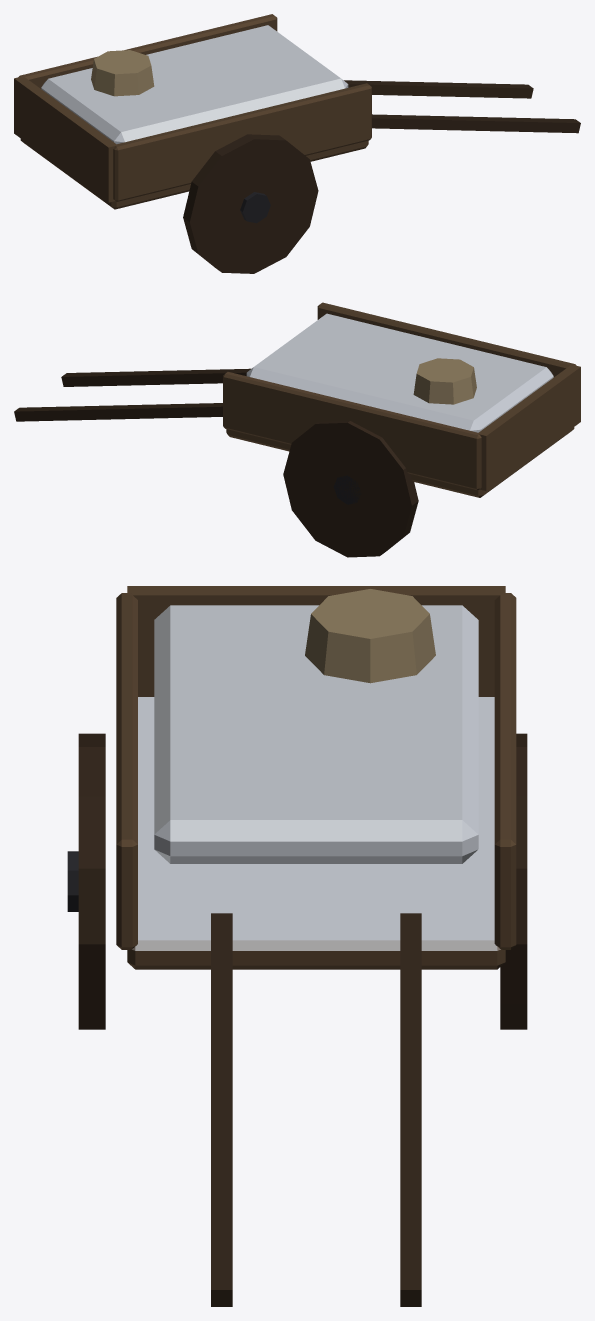
The model's file is village_cart.glb.
3 renders of one model, top to bottom at view 1: azimuth 30°, elevation 25°; view 2: azimuth 150°, elevation 25°; view 3: azimuth 270°, elevation 25°, orthographic. The views are drawn at different scales.
Visible parts, largest first — view 1: village_cart; view 2: village_cart; view 3: village_cart.
Boxes of the visible parts, box(x1,y1,x2,y2) form: village_cart: box(14, 14, 580, 273); village_cart: box(14, 302, 580, 557); village_cart: box(67, 586, 527, 1306).
Size of the model in its own units: 4.22 by 1.41 by 1.7.
